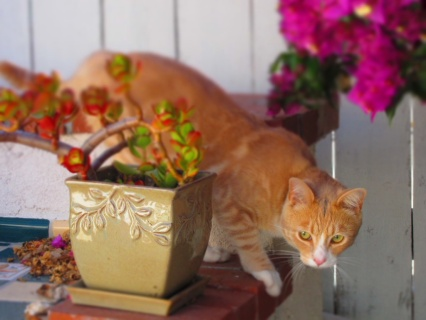Cat: (0, 45, 370, 300)
